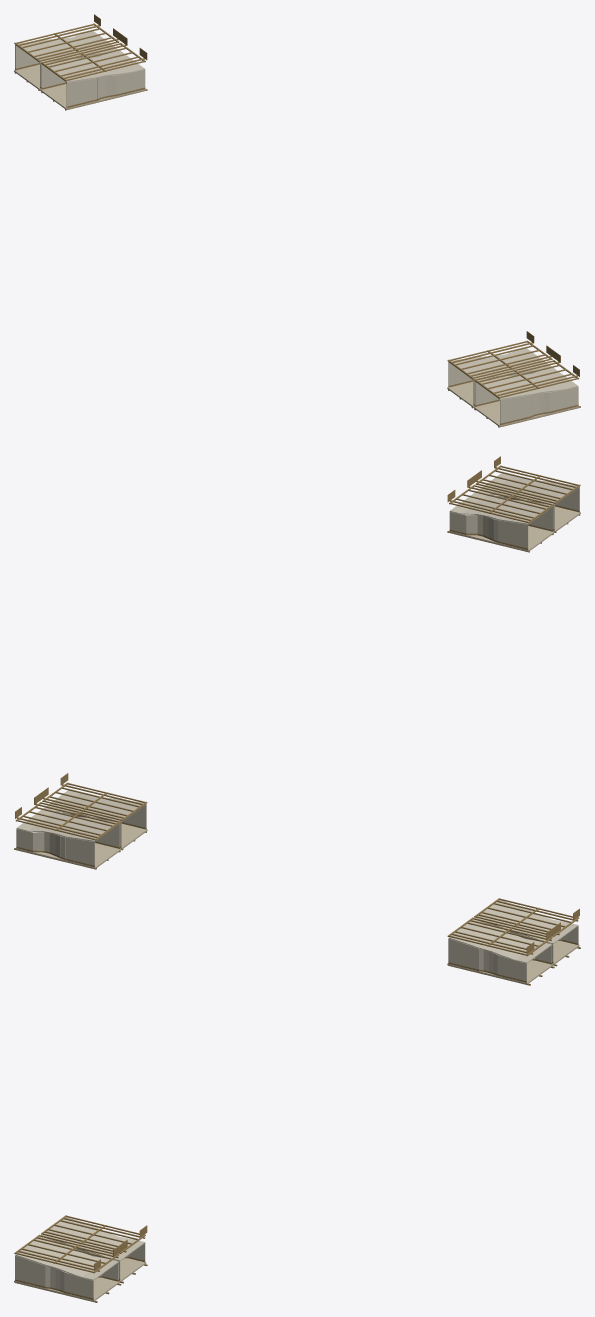
The model's file is StarAtlasSpecialtySixthReceiving.glb.
The picture shows the model from 3 angles, top to bottom: view 1: azimuth 30°, elevation 25°; view 2: azimuth 150°, elevation 25°; view 3: azimuth 330°, elevation 25°; orthographic projection.
Parts seen in each view (by area): view 1: Persistent_449_SUI_Wall_L6, Persistent_479_SUI_Wall_L6, Persistent_449_SUI_Floor, Persistent_479_SUI_Floor; view 2: Persistent_455_SUI_Wall_R7, Persistent_473_SUI_Wall_R7, Persistent_455_SUI_Floor, Persistent_473_SUI_Floor; view 3: Persistent_449_SUI_Wall_L6, Persistent_479_SUI_Wall_L6, Persistent_449_SUI_Floor, Persistent_479_SUI_Floor.
Boxes of the visible parts, box(x1,y1,x2,y2) form: Persistent_449_SUI_Wall_L6: box(66, 78, 97, 106); Persistent_479_SUI_Wall_L6: box(500, 395, 530, 423); Persistent_449_SUI_Floor: box(40, 84, 146, 109); Persistent_479_SUI_Floor: box(473, 401, 579, 426); Persistent_455_SUI_Wall_R7: box(498, 520, 528, 548); Persistent_473_SUI_Wall_R7: box(65, 837, 94, 865); Persistent_455_SUI_Floor: box(448, 514, 554, 551); Persistent_473_SUI_Floor: box(15, 843, 121, 868); Persistent_449_SUI_Wall_L6: box(448, 938, 478, 969); Persistent_479_SUI_Wall_L6: box(15, 1255, 45, 1286); Persistent_449_SUI_Floor: box(447, 960, 552, 984); Persistent_479_SUI_Floor: box(14, 1277, 119, 1301).
Size of the model in its own units: 13.25 by 6 by 136.
9 materials, 9 textured.
